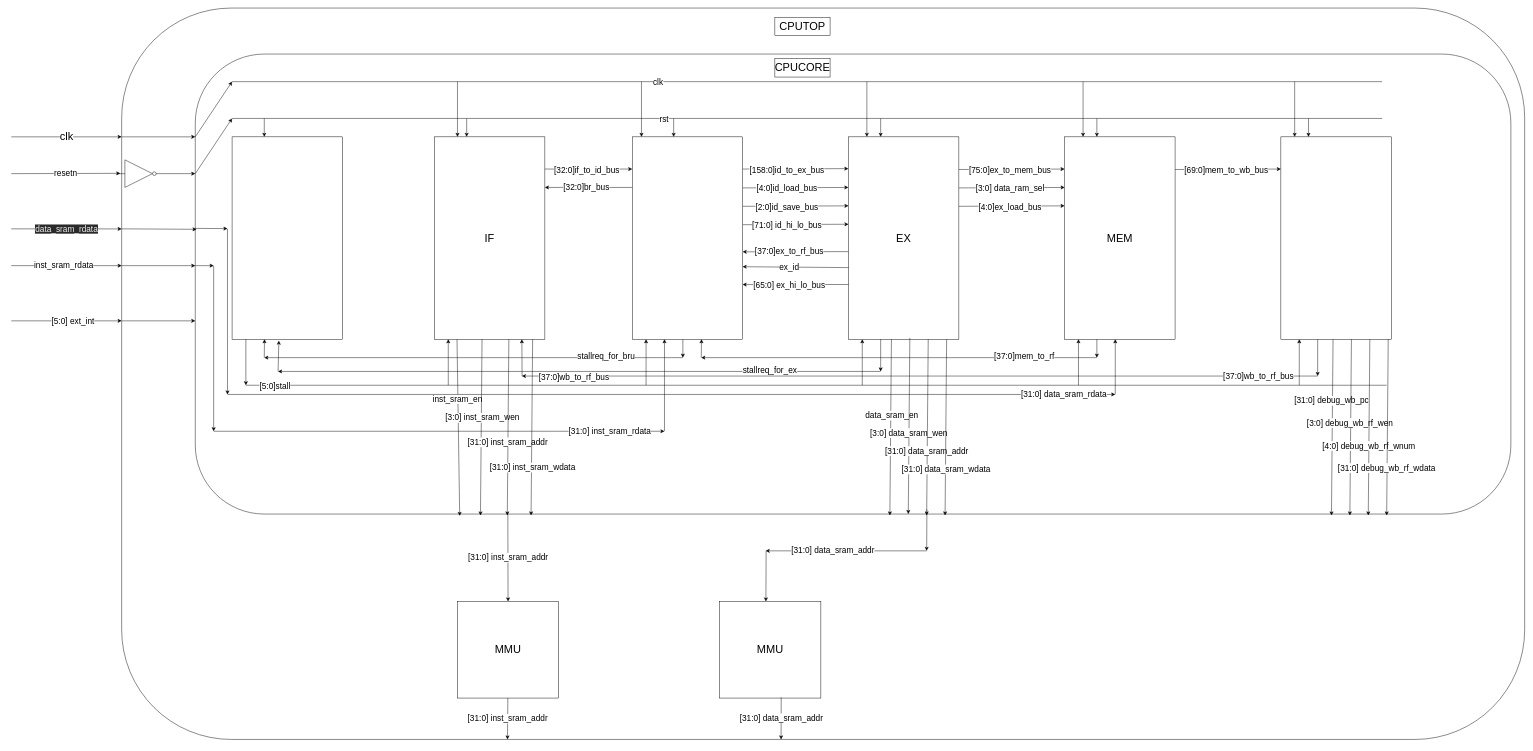
Some shapes in this 1533 by 751 pixel diagram are drawn without their labels. Here are the shapes that lost their labels. From the top down, the centre of each, then its label:
At (287,237): "CTRL".
At (687,237): "ID".
At (1335,237): "WB".
